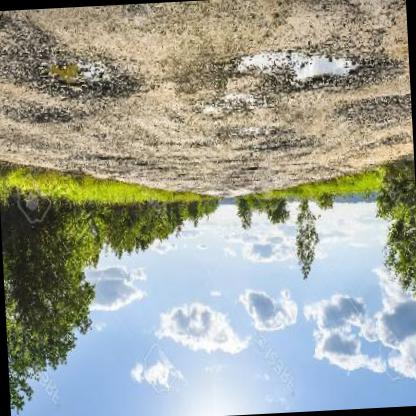pothole: (223, 43, 387, 101), (19, 45, 134, 108), (21, 102, 74, 130)
